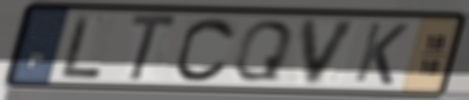C: (173, 15, 240, 84)
K: (350, 20, 412, 88)
L: (59, 12, 105, 81)
Q: (229, 18, 297, 83)
T: (126, 11, 182, 85)
V: (299, 18, 363, 88)
